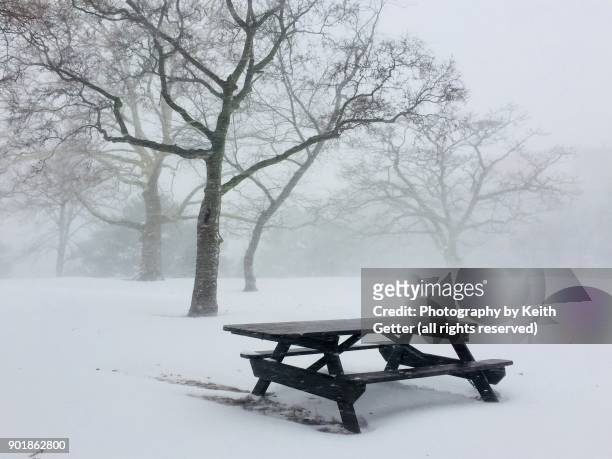obstacle: (223, 319, 512, 432)
